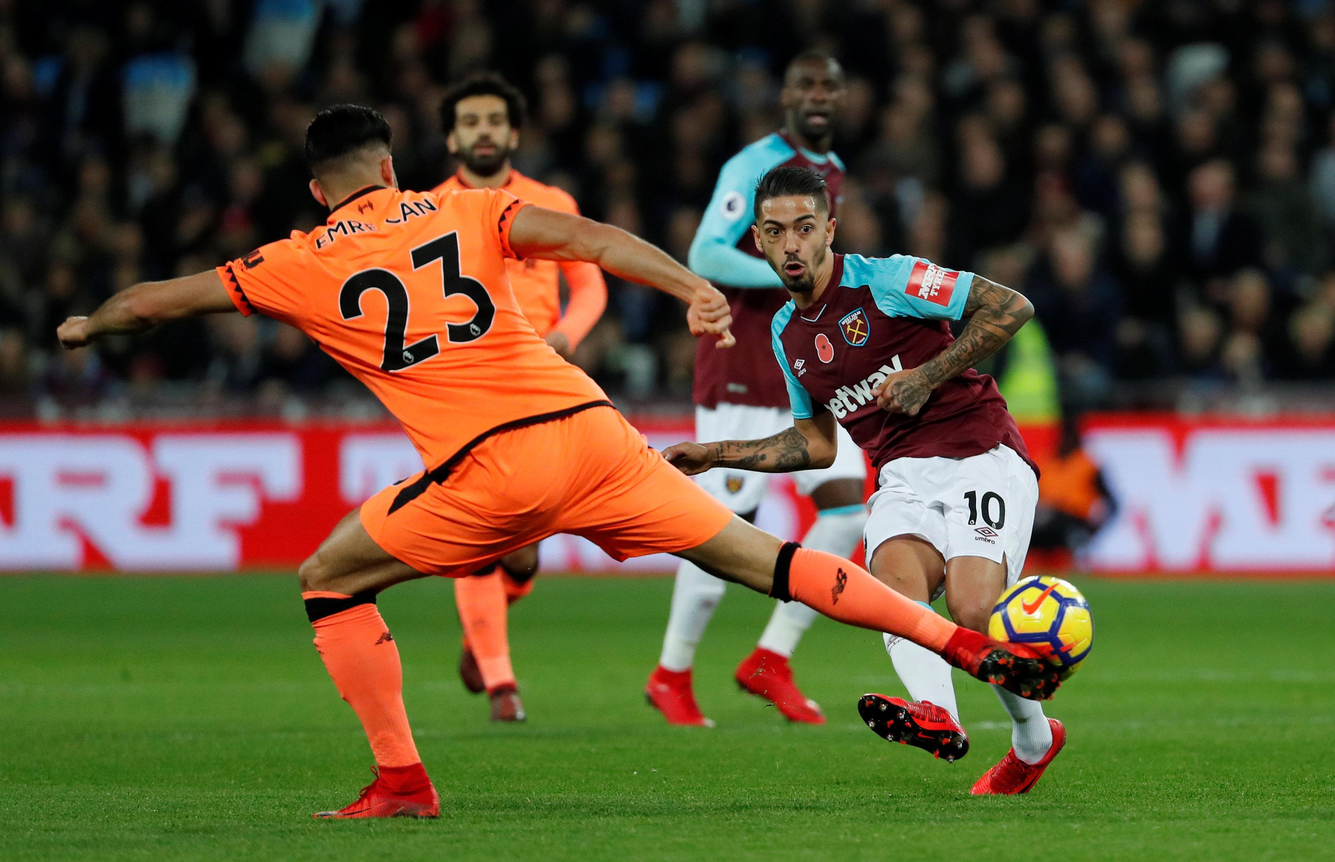ballon_football: (985, 573, 1094, 687)
